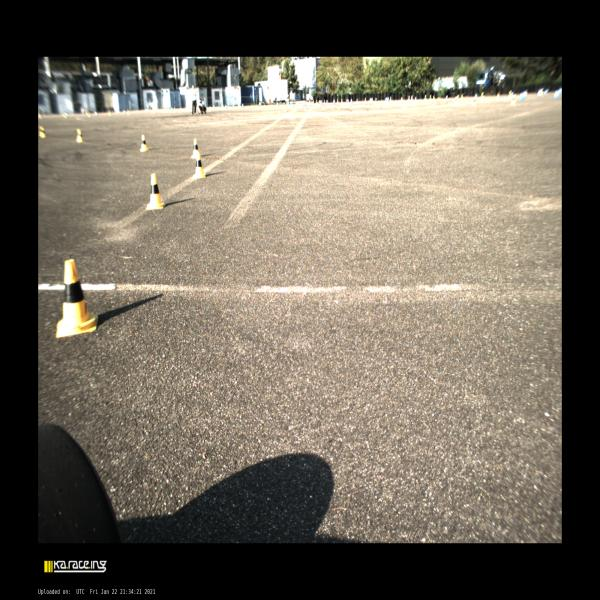yellow_cone: (56, 260, 97, 338), (146, 174, 164, 209), (192, 153, 206, 179), (140, 134, 148, 152), (76, 128, 84, 142), (193, 139, 198, 151)
